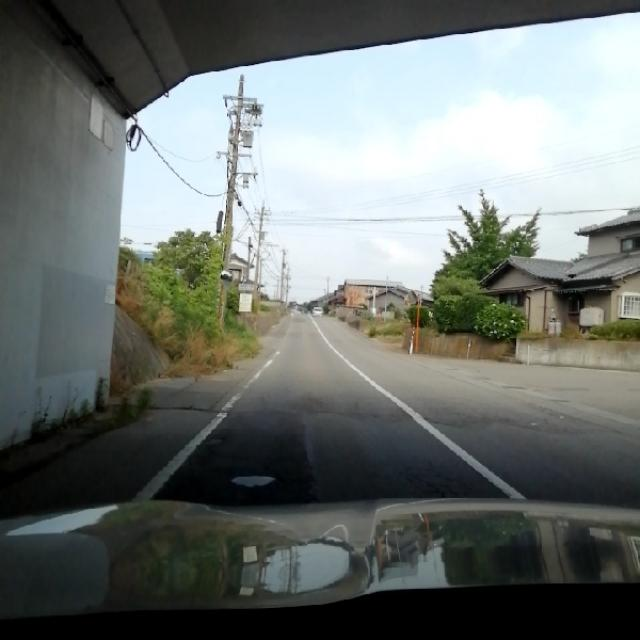pothole: (369, 389, 603, 444), (182, 383, 228, 430)
